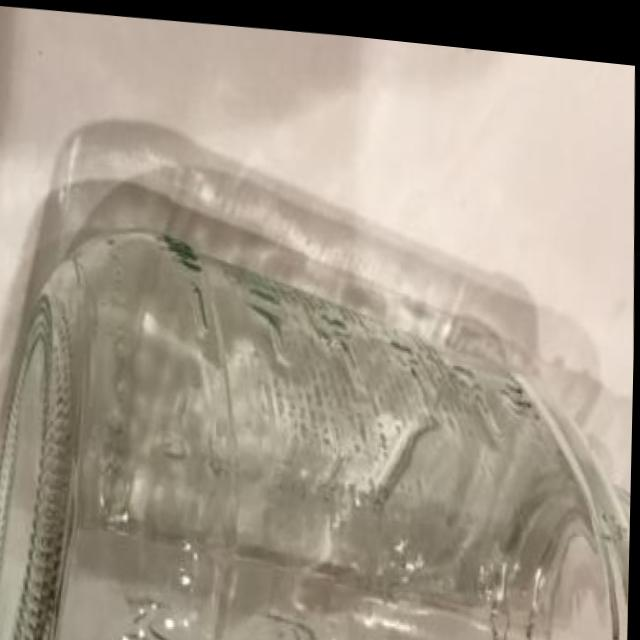glass: (0, 206, 636, 640)
